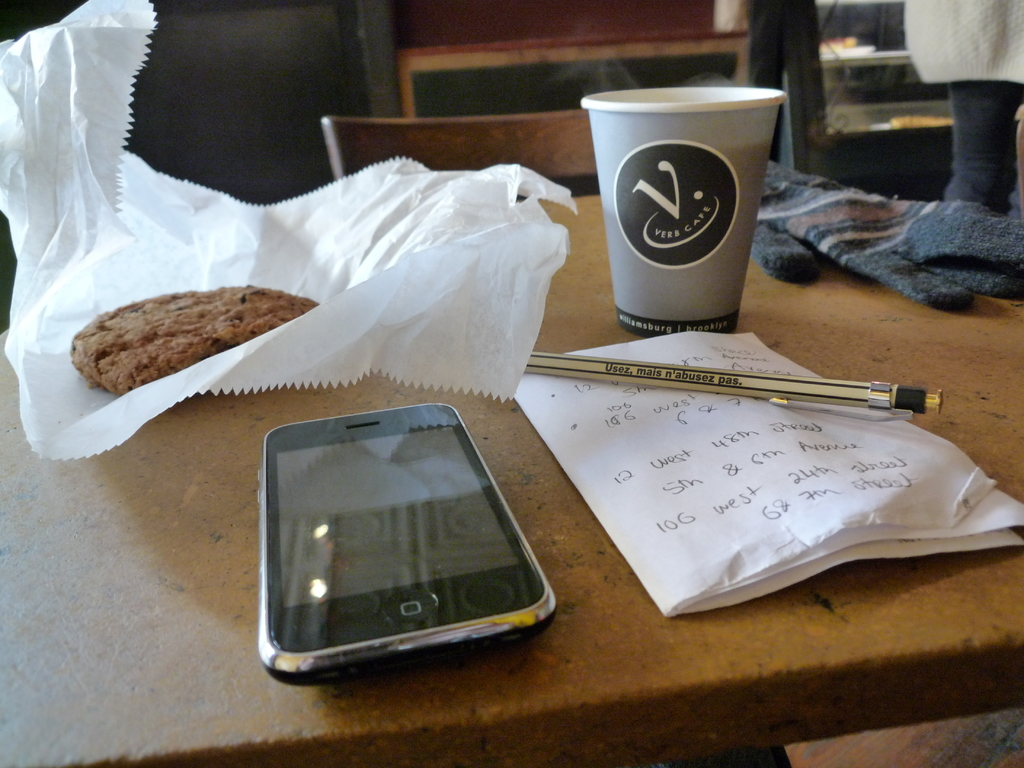mobile phone: (230, 397, 572, 673)
